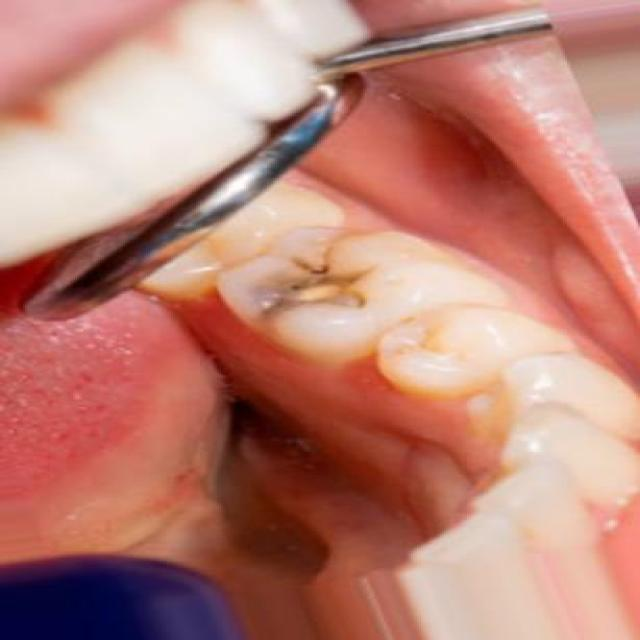caries: (232, 247, 394, 323)
